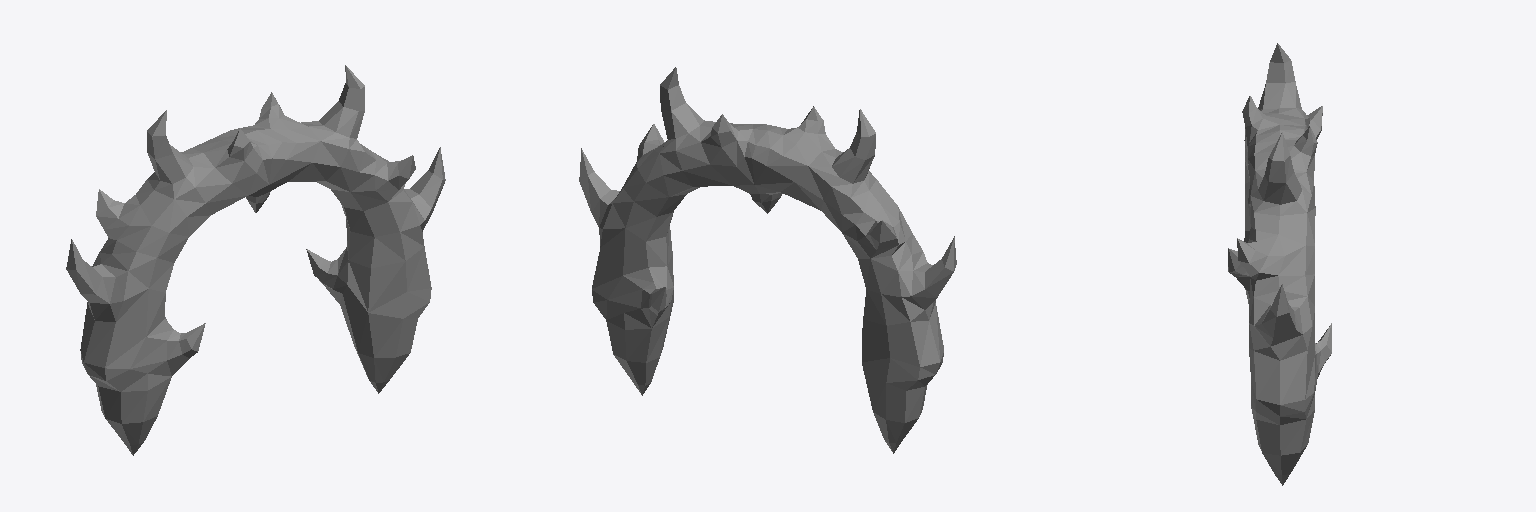
Rendered from stone_arch_lava.obj.
The picture shows the model from 3 angles: view 1: azimuth 30°, elevation 25°; view 2: azimuth 150°, elevation 25°; view 3: azimuth 270°, elevation 25°; orthographic projection.
Visible parts, largest first — view 1: stone_arch_lava; view 2: stone_arch_lava; view 3: stone_arch_lava.
Boxes of the visible parts, <box> form: stone_arch_lava: <box>66,65,445,455</box>; stone_arch_lava: <box>579,67,956,453</box>; stone_arch_lava: <box>1228,43,1331,485</box>.
Bounding box in the file's own units: 766 × 659 × 185.